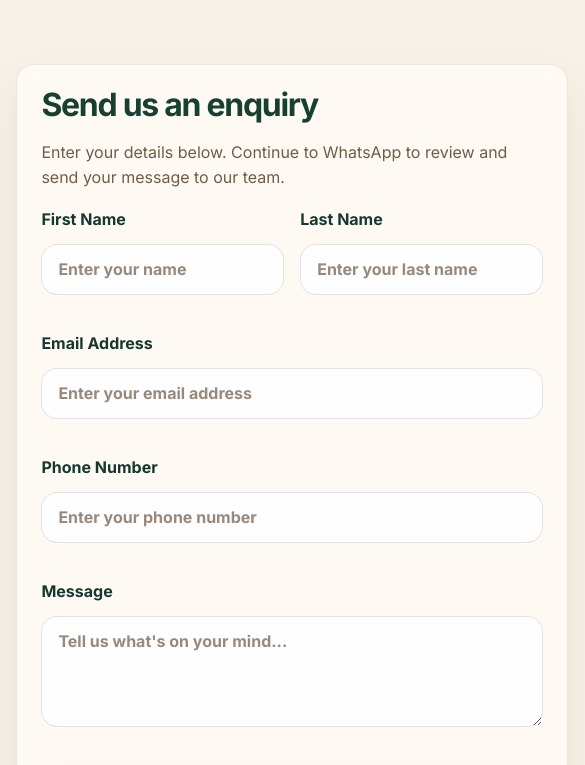
it: invalid phone numbers do not open WhatsApp
In the field labelled "First Name": (163, 269) left=41, top=244, right=284, bottom=295, type "Asha"
In the field labelled "Last Name": (422, 269) left=300, top=244, right=543, bottom=295, type "Kumar"
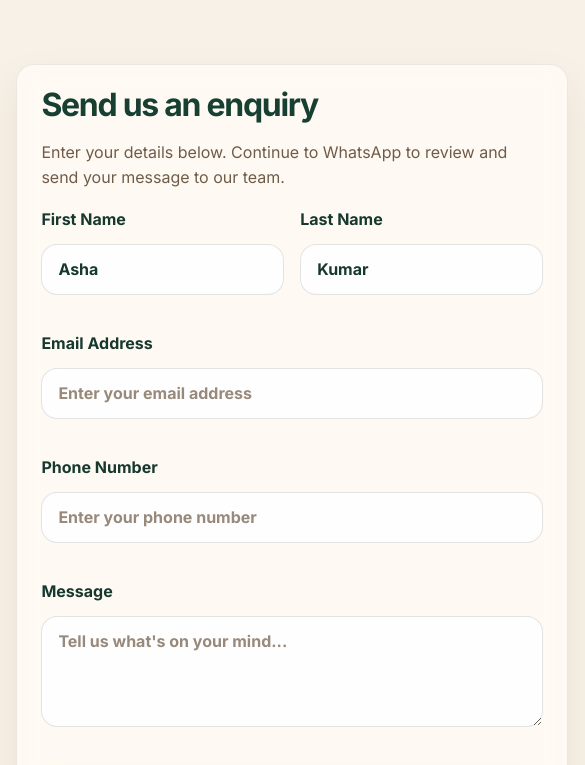
In the field labelled "Email Address": (292, 393) left=41, top=368, right=543, bottom=419, type "asha@example.com"
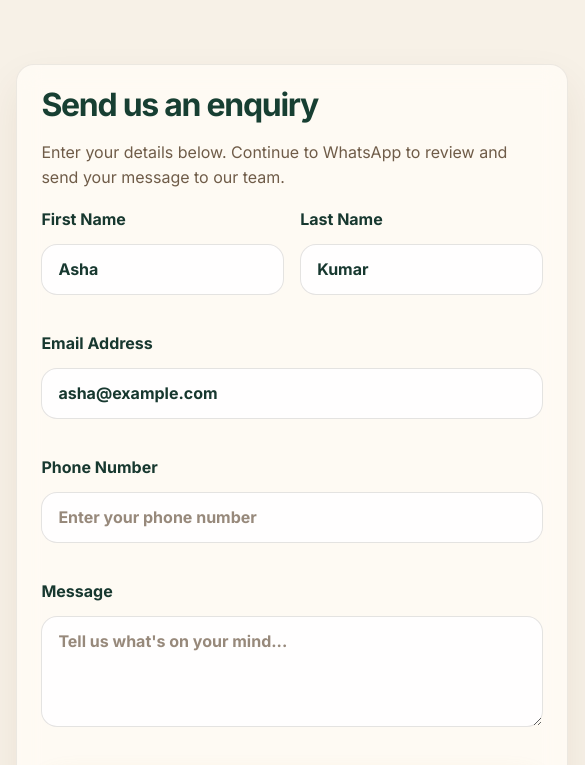
In the field labelled "Phone Number": (292, 517) left=41, top=492, right=543, bottom=543, type "+91 9876543210"
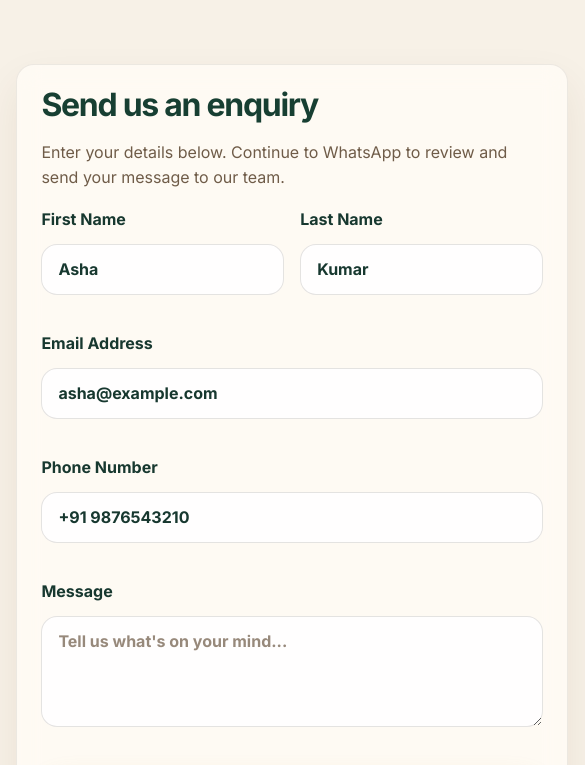
In the text box labelled "Message": (292, 671) left=41, top=616, right=543, bottom=727, type "Please share bread availability."
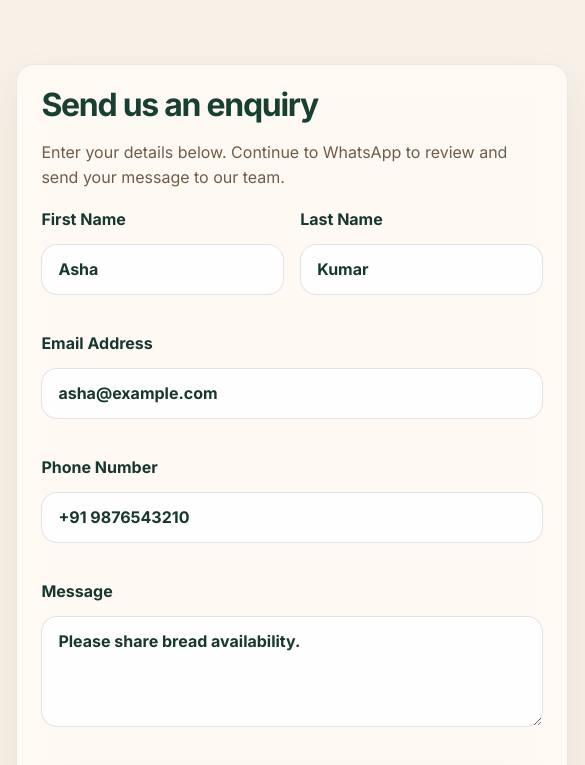
Replace the text in the field labelled "Phone Number" with "abc": (292, 517) left=41, top=492, right=543, bottom=543
(page scrolled)
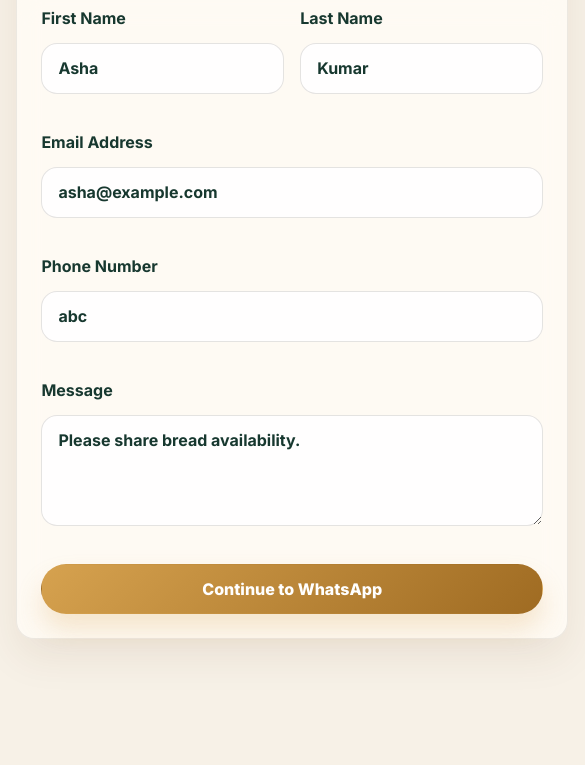
Click the button "Continue to WhatsApp": (292, 589) left=41, top=564, right=543, bottom=614
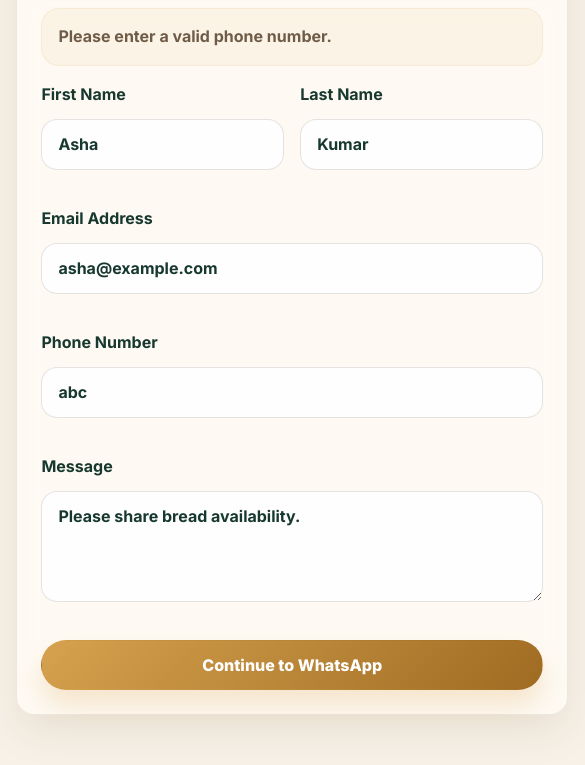
Expected: the message shows "valid phone number", left=58, top=26, right=332, bottom=46
